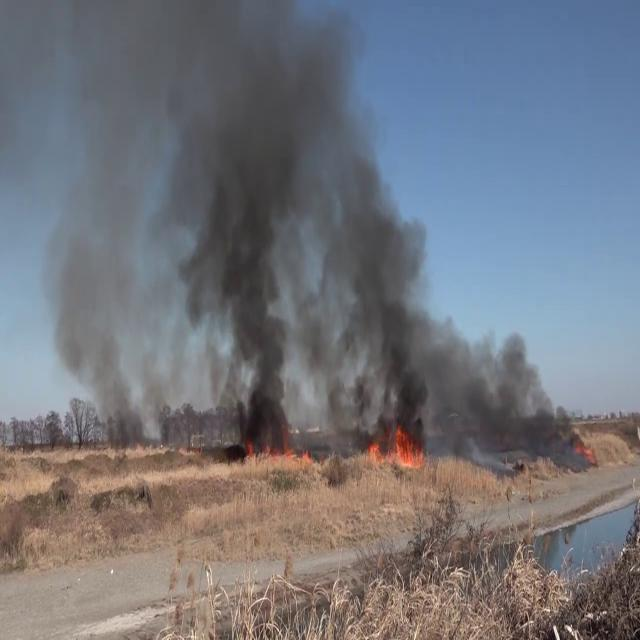Fire: (364, 417, 426, 471), (243, 428, 324, 469)
Smoke: (0, 0, 431, 406), (422, 314, 587, 458)
